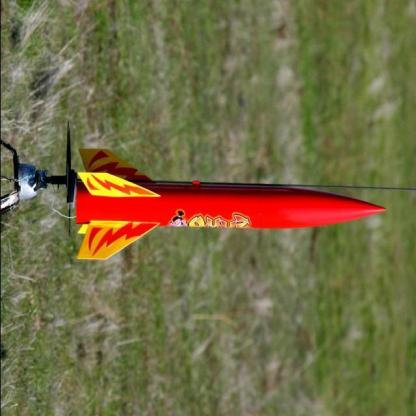MIL_TBM: (75, 150, 384, 258), (74, 182, 412, 231)
